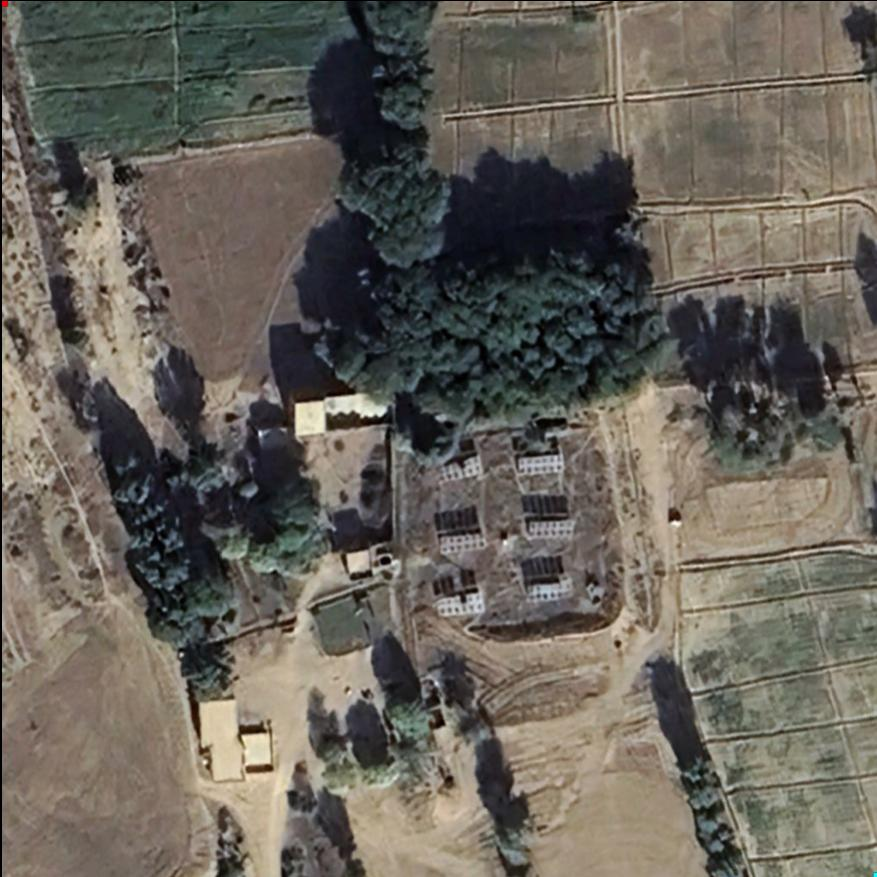Solarpanel: (430, 584, 487, 622), (427, 452, 484, 484), (436, 529, 488, 560), (514, 450, 568, 477), (522, 516, 576, 542), (519, 578, 574, 602)
